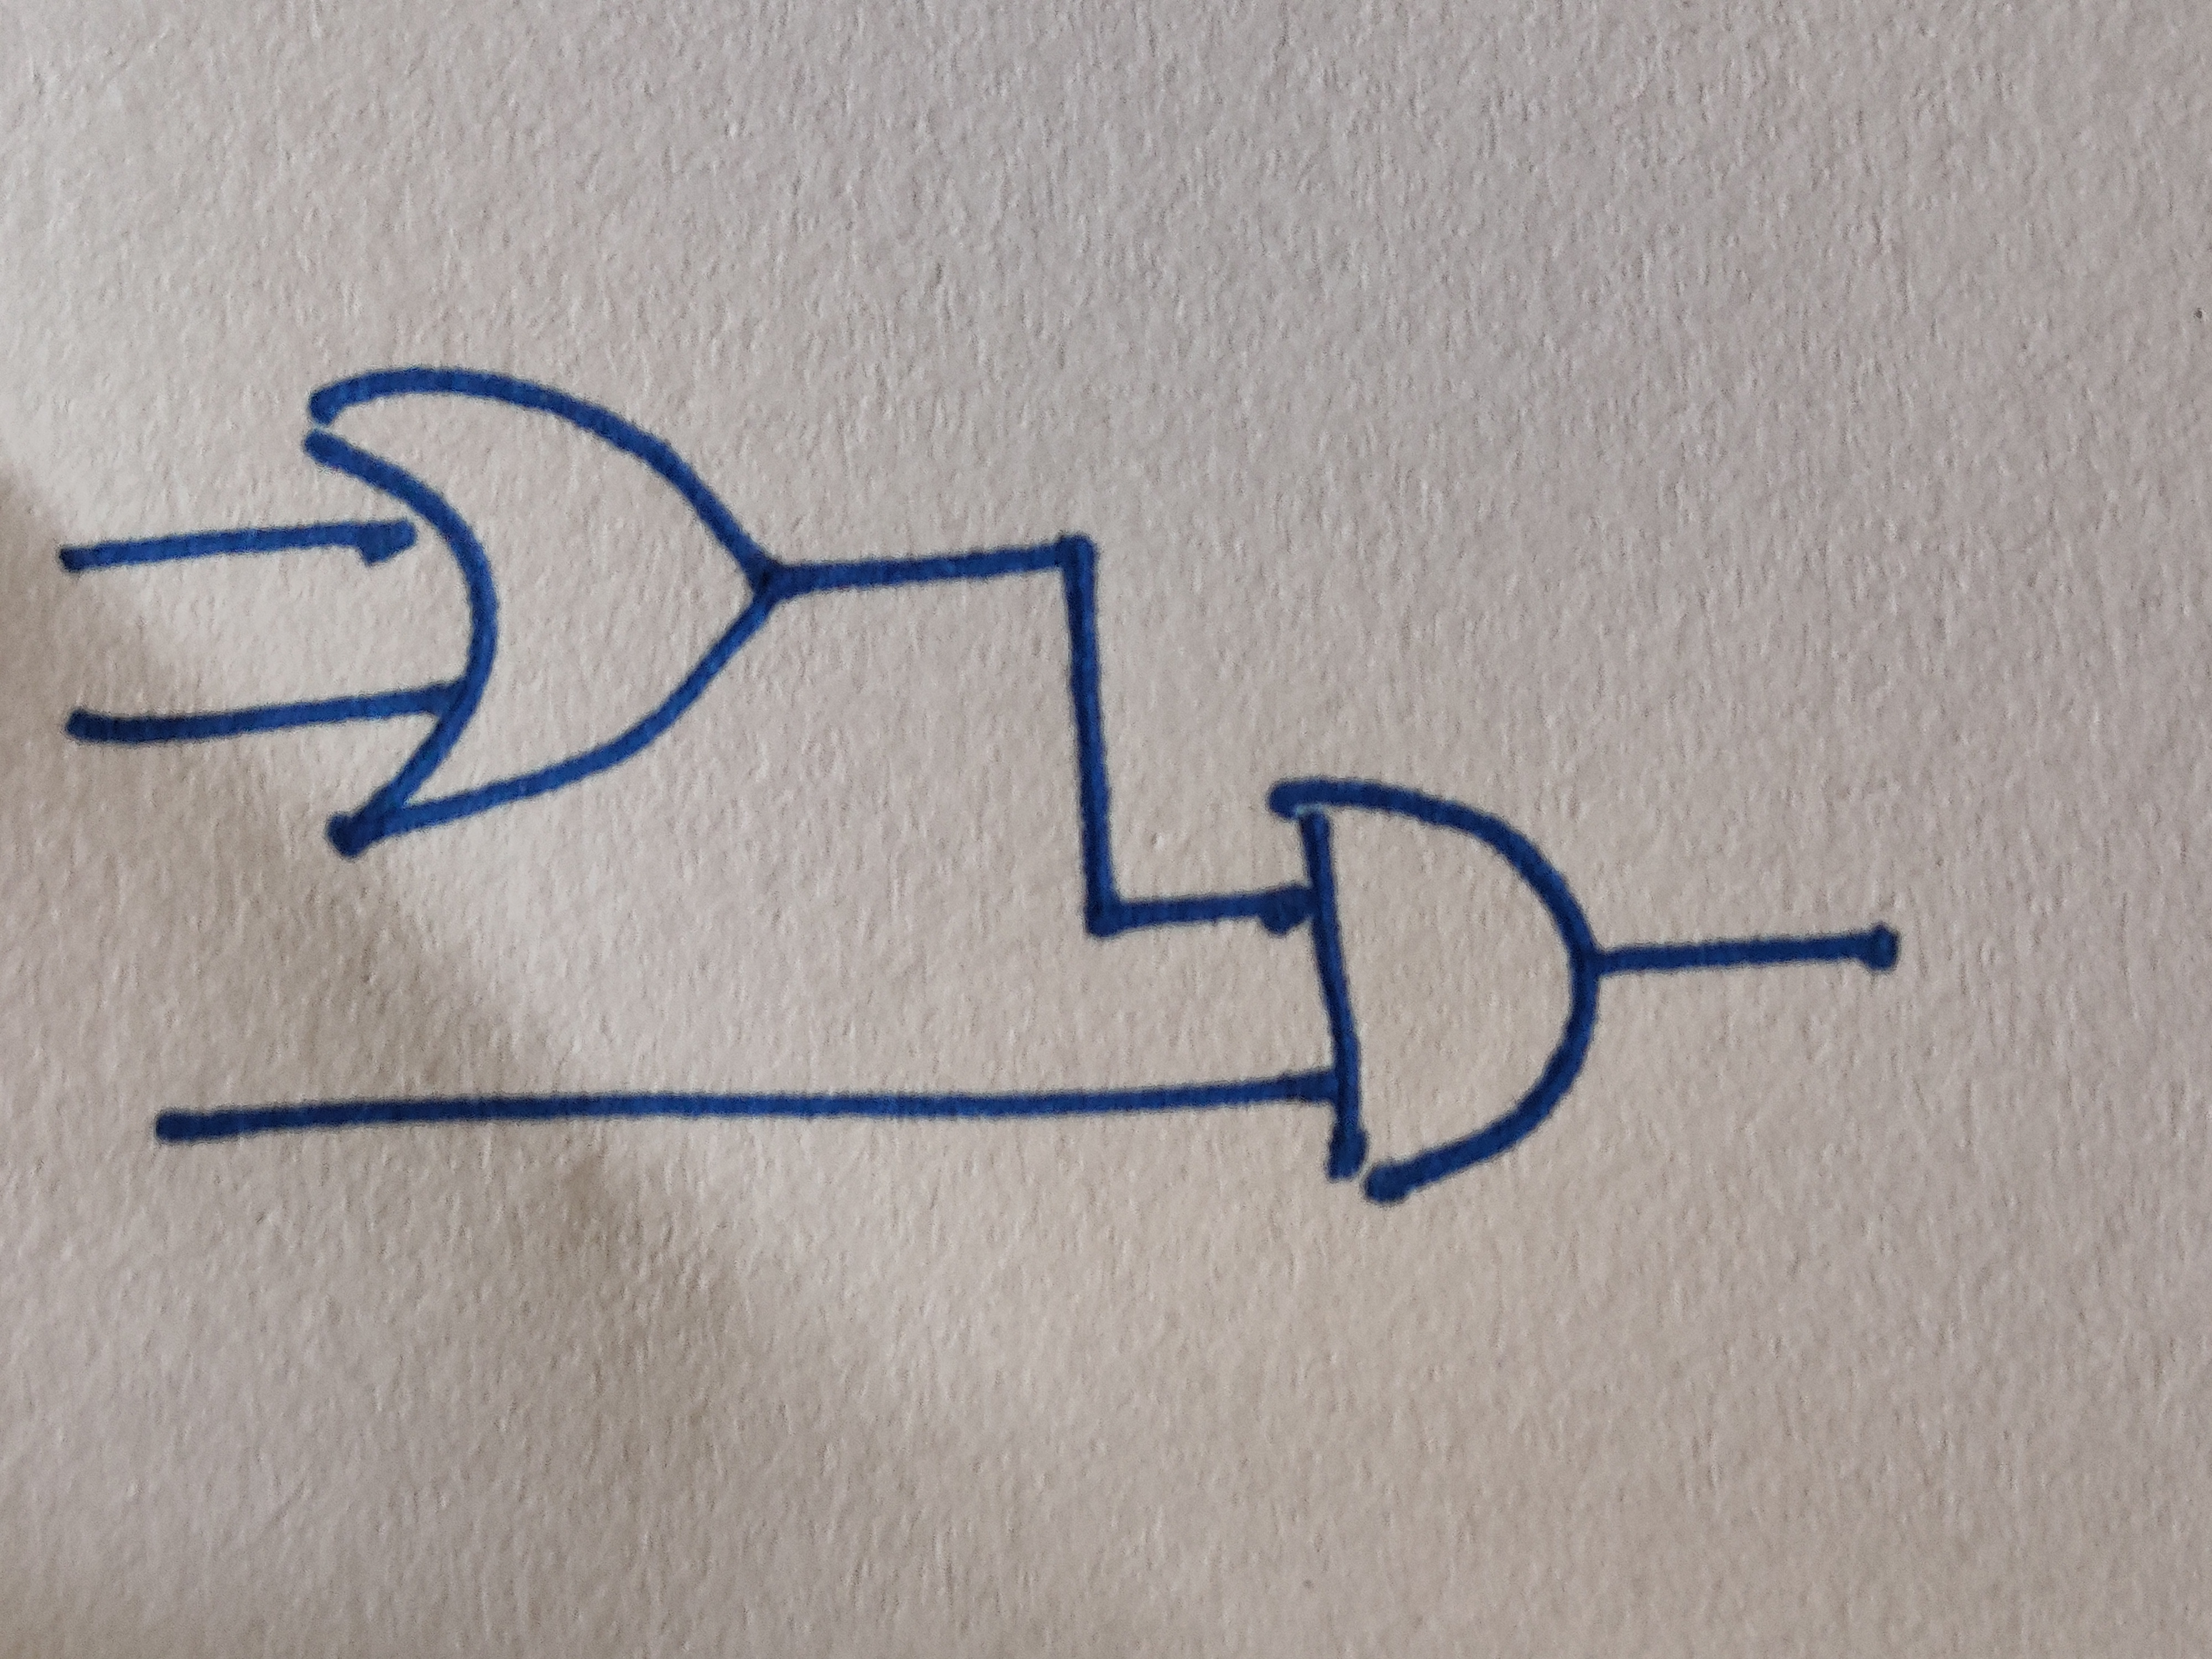and: (1270, 775, 1599, 1204)
or: (303, 368, 772, 859)
